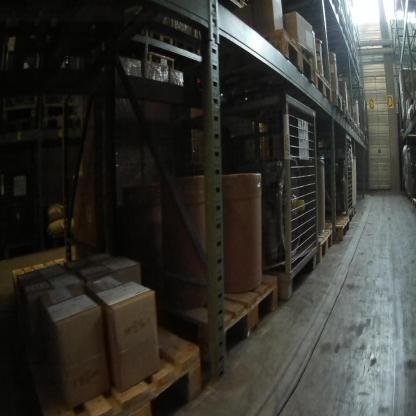pallet: (8, 247, 205, 412), (144, 250, 283, 367), (64, 35, 148, 80), (249, 28, 317, 83), (4, 33, 76, 72), (302, 1, 349, 36), (37, 97, 102, 122), (141, 25, 183, 56), (1, 99, 38, 129), (311, 61, 334, 106), (329, 49, 362, 79), (321, 215, 351, 246), (324, 27, 353, 58), (144, 46, 181, 70), (314, 226, 333, 260), (333, 86, 347, 117), (352, 119, 358, 138), (348, 113, 354, 131), (344, 106, 350, 123), (408, 108, 414, 125), (402, 120, 409, 132), (412, 96, 416, 115), (412, 196, 416, 210), (242, 2, 250, 8)
stillage: (172, 85, 318, 299), (304, 127, 355, 225), (406, 141, 416, 198), (358, 96, 368, 134)
